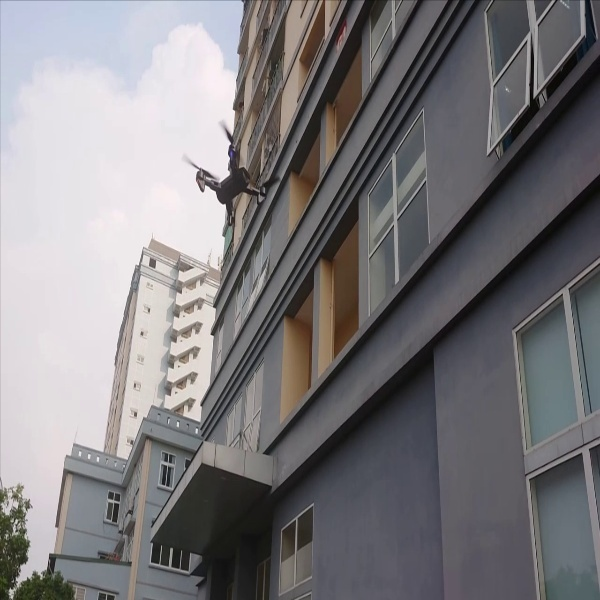drone: (183, 119, 283, 227)
